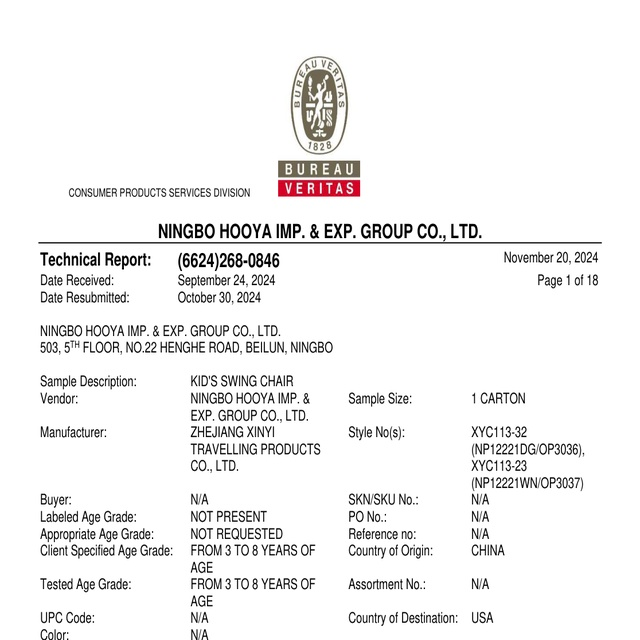bureau_veritas: (273, 52, 366, 203)
